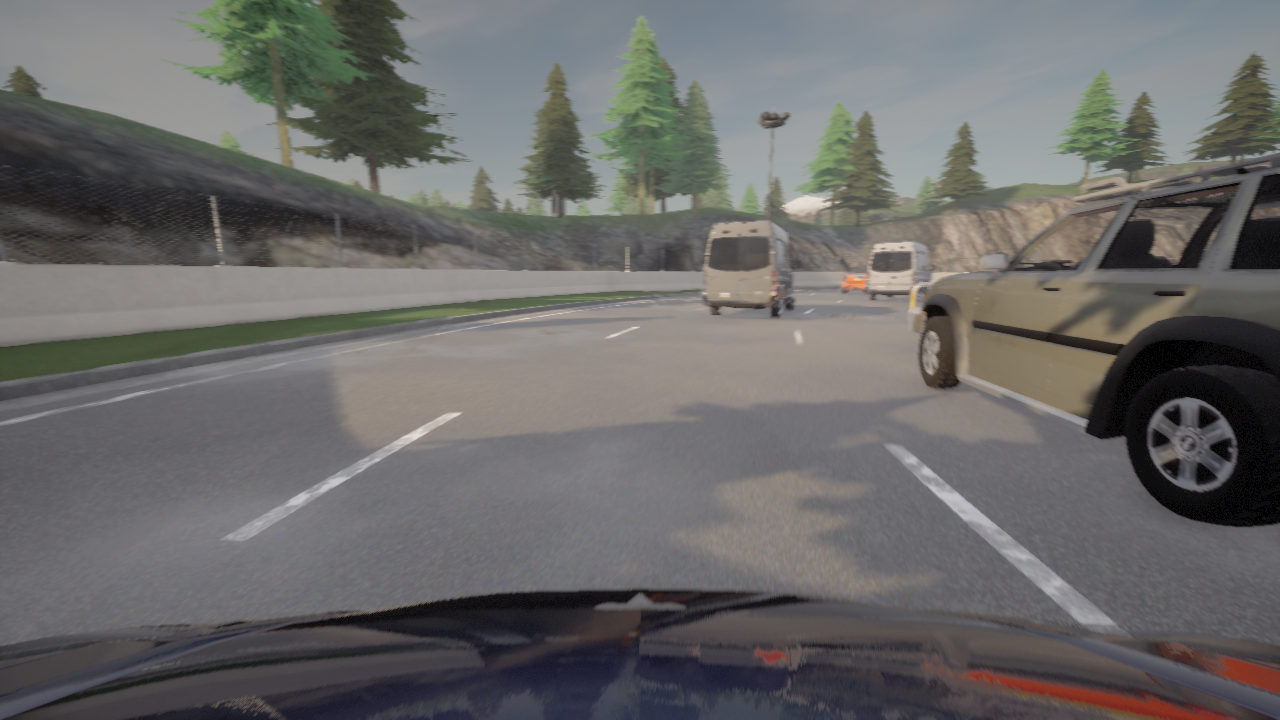cyclist: (0, 588, 1279, 719), (906, 153, 1279, 527), (702, 220, 799, 317), (865, 241, 935, 301), (841, 265, 867, 293)
